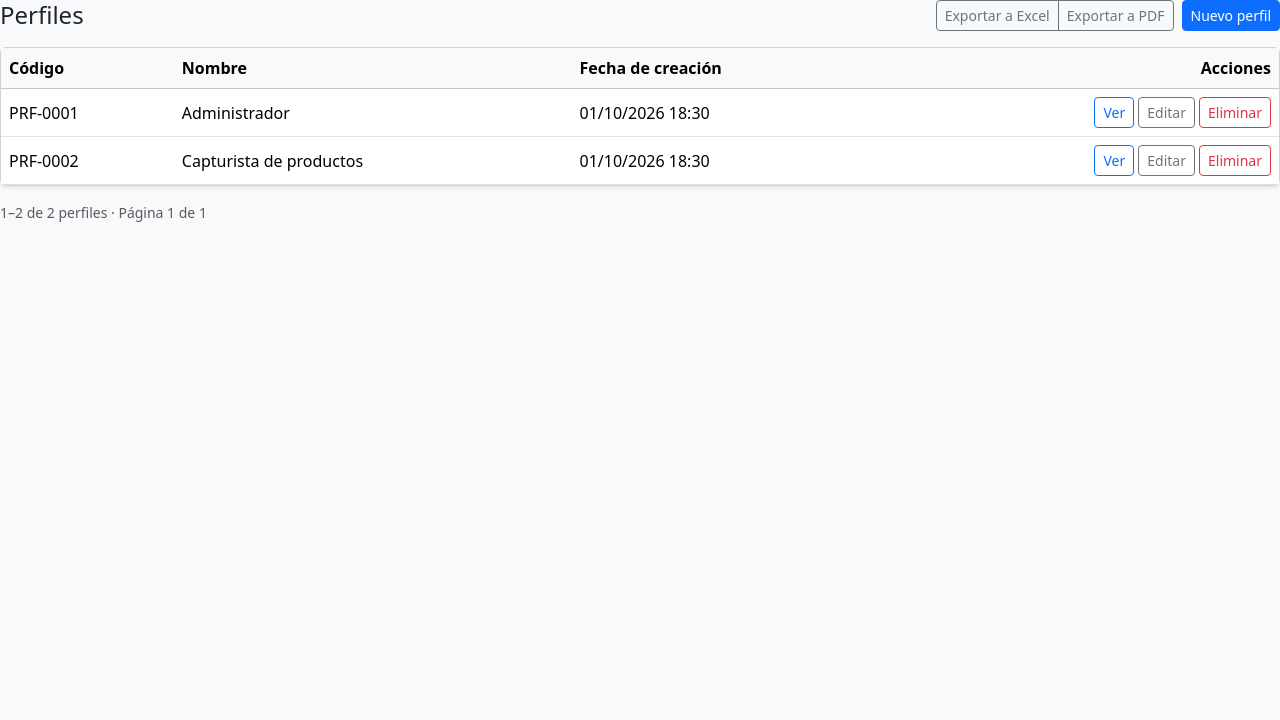
ProfileListComponent › "Ver" abre el detalle en una ventana modal con sus secciones, sin pedir nada a la API
What coordinates should you click on to do the following:
click the button "Ver" in the row of "PRF-0001"
I would click on:
 (1114, 112)
Its box is [1094,97,1134,128].
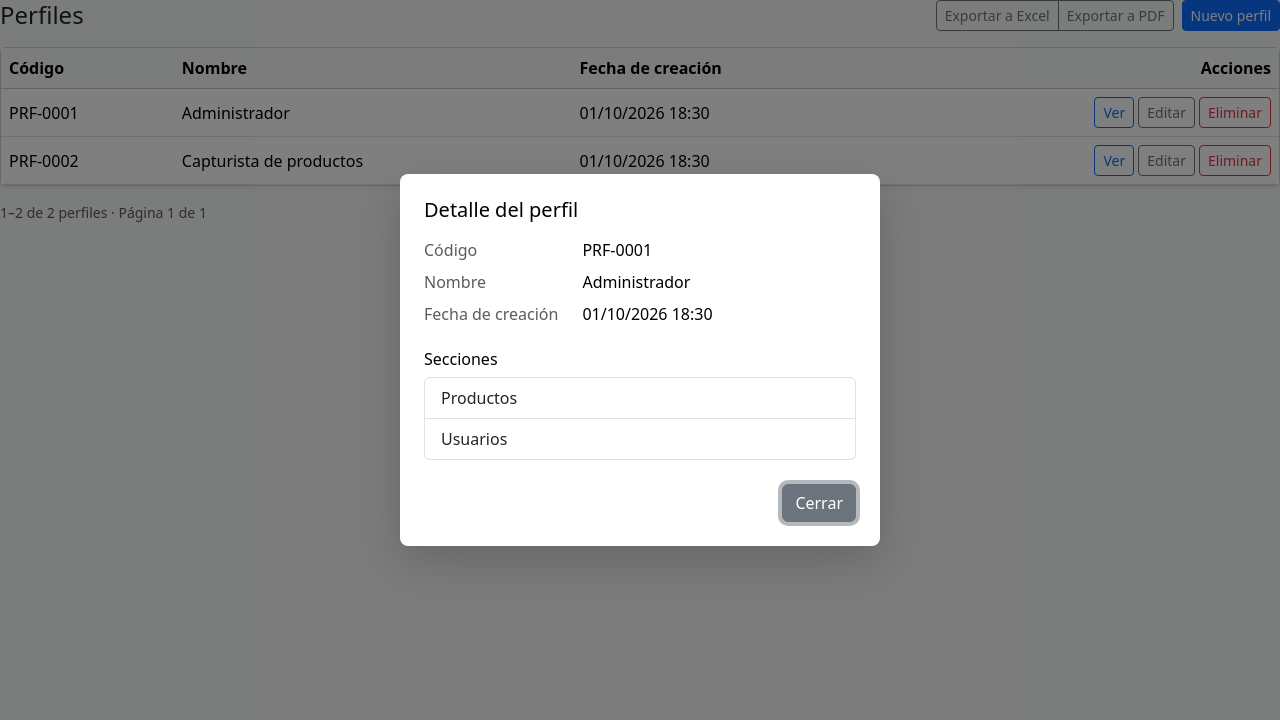
Now the element with class "details" shows "PRF-0001", box [582,239,652,261]
Now the element with class "details" shows "Administrador", box [582,271,690,293]
